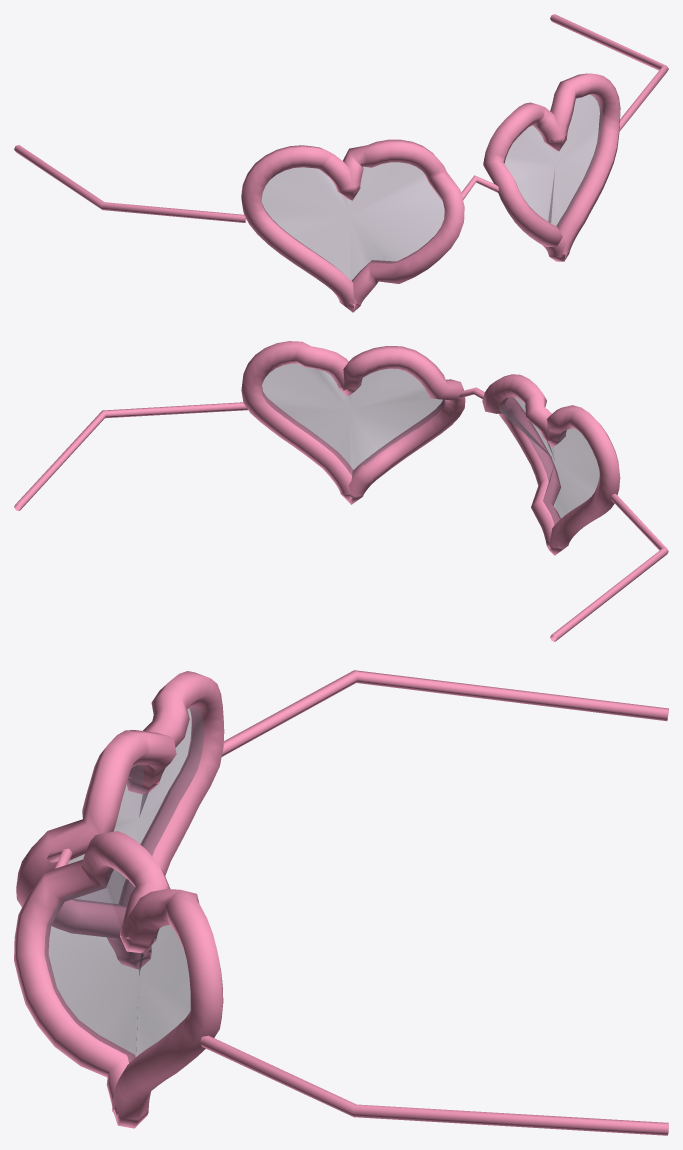
Rendered from restart_glasses_heart_bear.glb.
3 renders of one model, top to bottom at view 1: azimuth 30°, elevation 25°; view 2: azimuth 150°, elevation 25°; view 3: azimuth 270°, elevation 25°, orthographic. The views are drawn at different scales.
Parts seen in each view (by area): view 1: Lente ahumada.004, Montura.006, Montura.007, Lente ahumada.005, Patilla curva.006, Patilla curva.007; view 2: Montura.007, Lente ahumada.005, Montura.006, Lente ahumada.004, Patilla curva.007, Patilla curva.006; view 3: Montura.007, Montura.006, Lente ahumada.005, Patilla curva.007, Lente ahumada.004, Patilla curva.006.
Boxes of the visible parts, x1,y1,x2,y2 form: Lente ahumada.004: (261,162,444,280); Montura.006: (241,139,464,312); Montura.007: (483,73,620,261); Lente ahumada.005: (504,94,602,227); Patilla curva.006: (14,145,246,222); Patilla curva.007: (550,14,668,131); Montura.007: (241,341,465,504); Lente ahumada.005: (261,363,444,475); Montura.006: (482,374,620,555); Lente ahumada.004: (498,397,599,524); Patilla curva.007: (14,402,247,510); Patilla curva.006: (550,493,668,641); Montura.007: (14,831,223,1128); Montura.006: (16,671,224,969); Lente ahumada.005: (44,867,190,1063); Patilla curva.007: (199,1035,668,1135); Lente ahumada.004: (68,707,203,906); Patilla curva.006: (221,670,668,756).
Size of the model in its own units: 0.7972 by 0.2212 by 0.5023.
